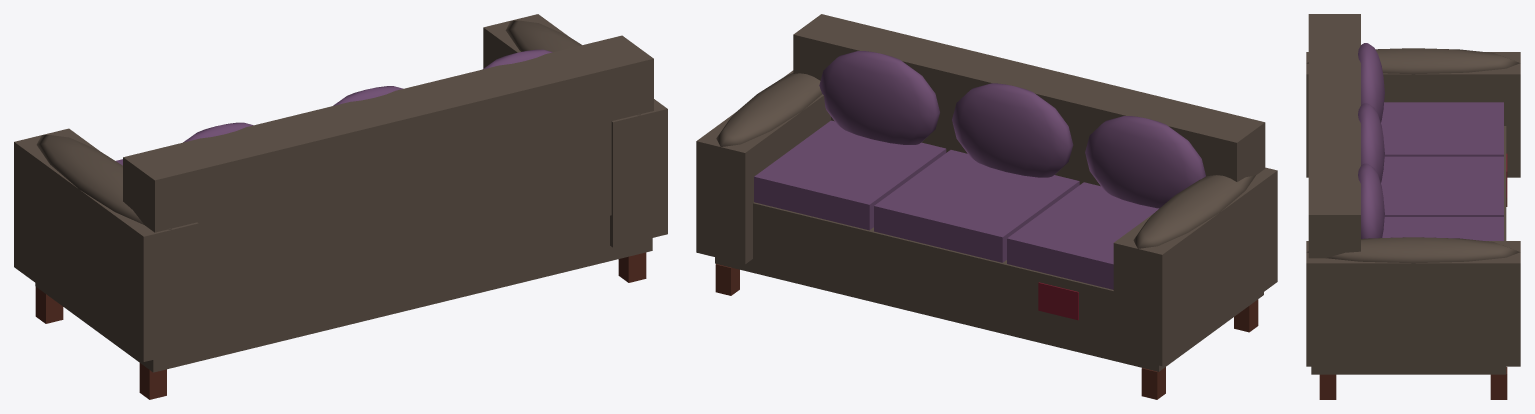
File: SM_PRP_Sofa.fbx
3 views of the same model, side by side, from view 1: azimuth 30°, elevation 25°; view 2: azimuth 150°, elevation 25°; view 3: azimuth 270°, elevation 25° (orthographic). The views are drawn at different scales.
Visible parts, largest first — view 1: SM_PRP_Sofa; view 2: SM_PRP_Sofa; view 3: SM_PRP_Sofa.
Part boxes in pixels (x1,y1,x2,y2): SM_PRP_Sofa: [14, 14, 667, 399]; SM_PRP_Sofa: [696, 14, 1277, 399]; SM_PRP_Sofa: [1306, 14, 1520, 399].
Bounding box in the file's own units: 2.1 × 0.88 × 0.9.
